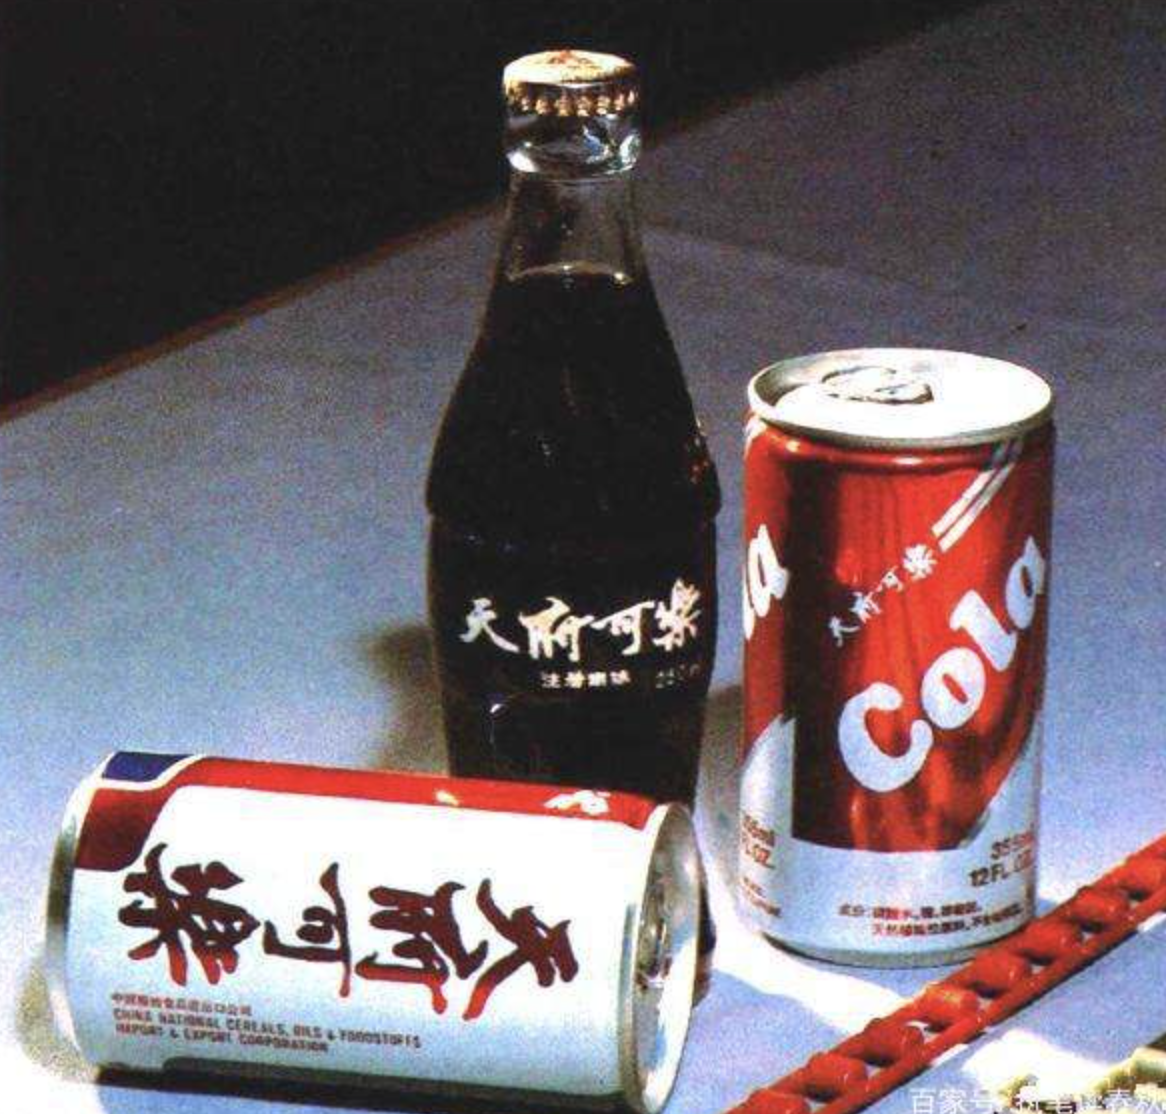天府可乐: (426, 47, 723, 1026), (40, 752, 707, 1100), (729, 349, 1050, 965)
